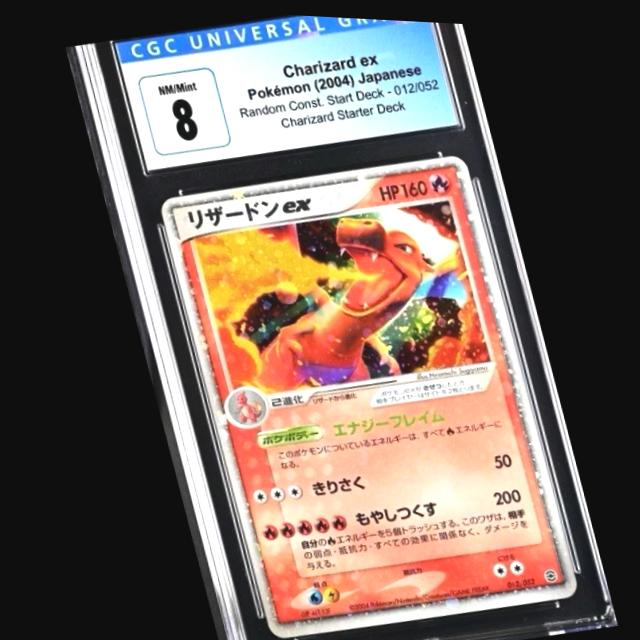card: (153, 149, 572, 639)
cgc_label_old: (111, 12, 458, 172)
cgc_slab: (72, 12, 609, 640)
